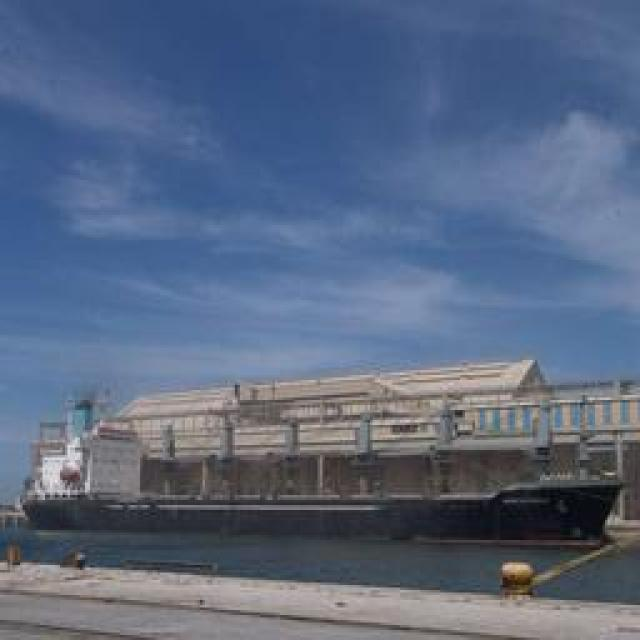CIV_Ship: (27, 438, 615, 536)
